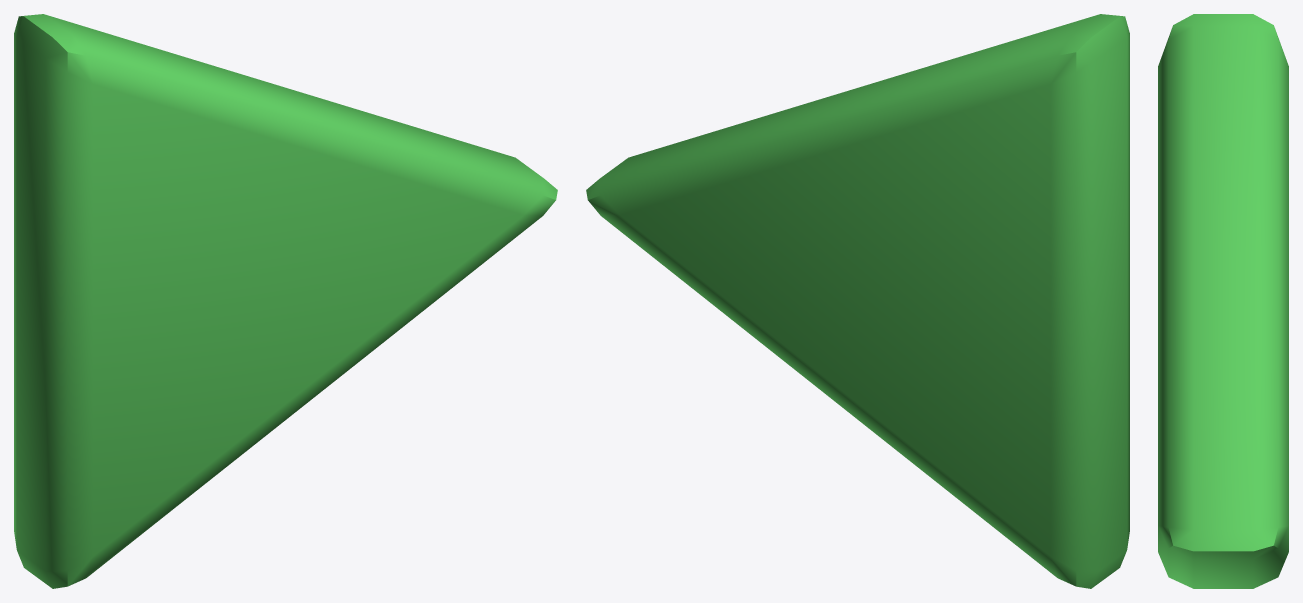
The model's file is icon_play.glb.
3 renders of one model, left to right at view 1: azimuth 30°, elevation 25°; view 2: azimuth 150°, elevation 25°; view 3: azimuth 270°, elevation 25°, orthographic. The views are drawn at different scales.
Parts seen in each view (by area): view 1: Play; view 2: Play; view 3: Play.
Part boxes in pixels (x1,y1,x2,y2): Play: (14, 14, 557, 588); Play: (586, 14, 1129, 588); Play: (1158, 14, 1288, 588).
Size of the model in its own units: 1.02 by 1.05 by 0.22.
1 material, 1 textured.
